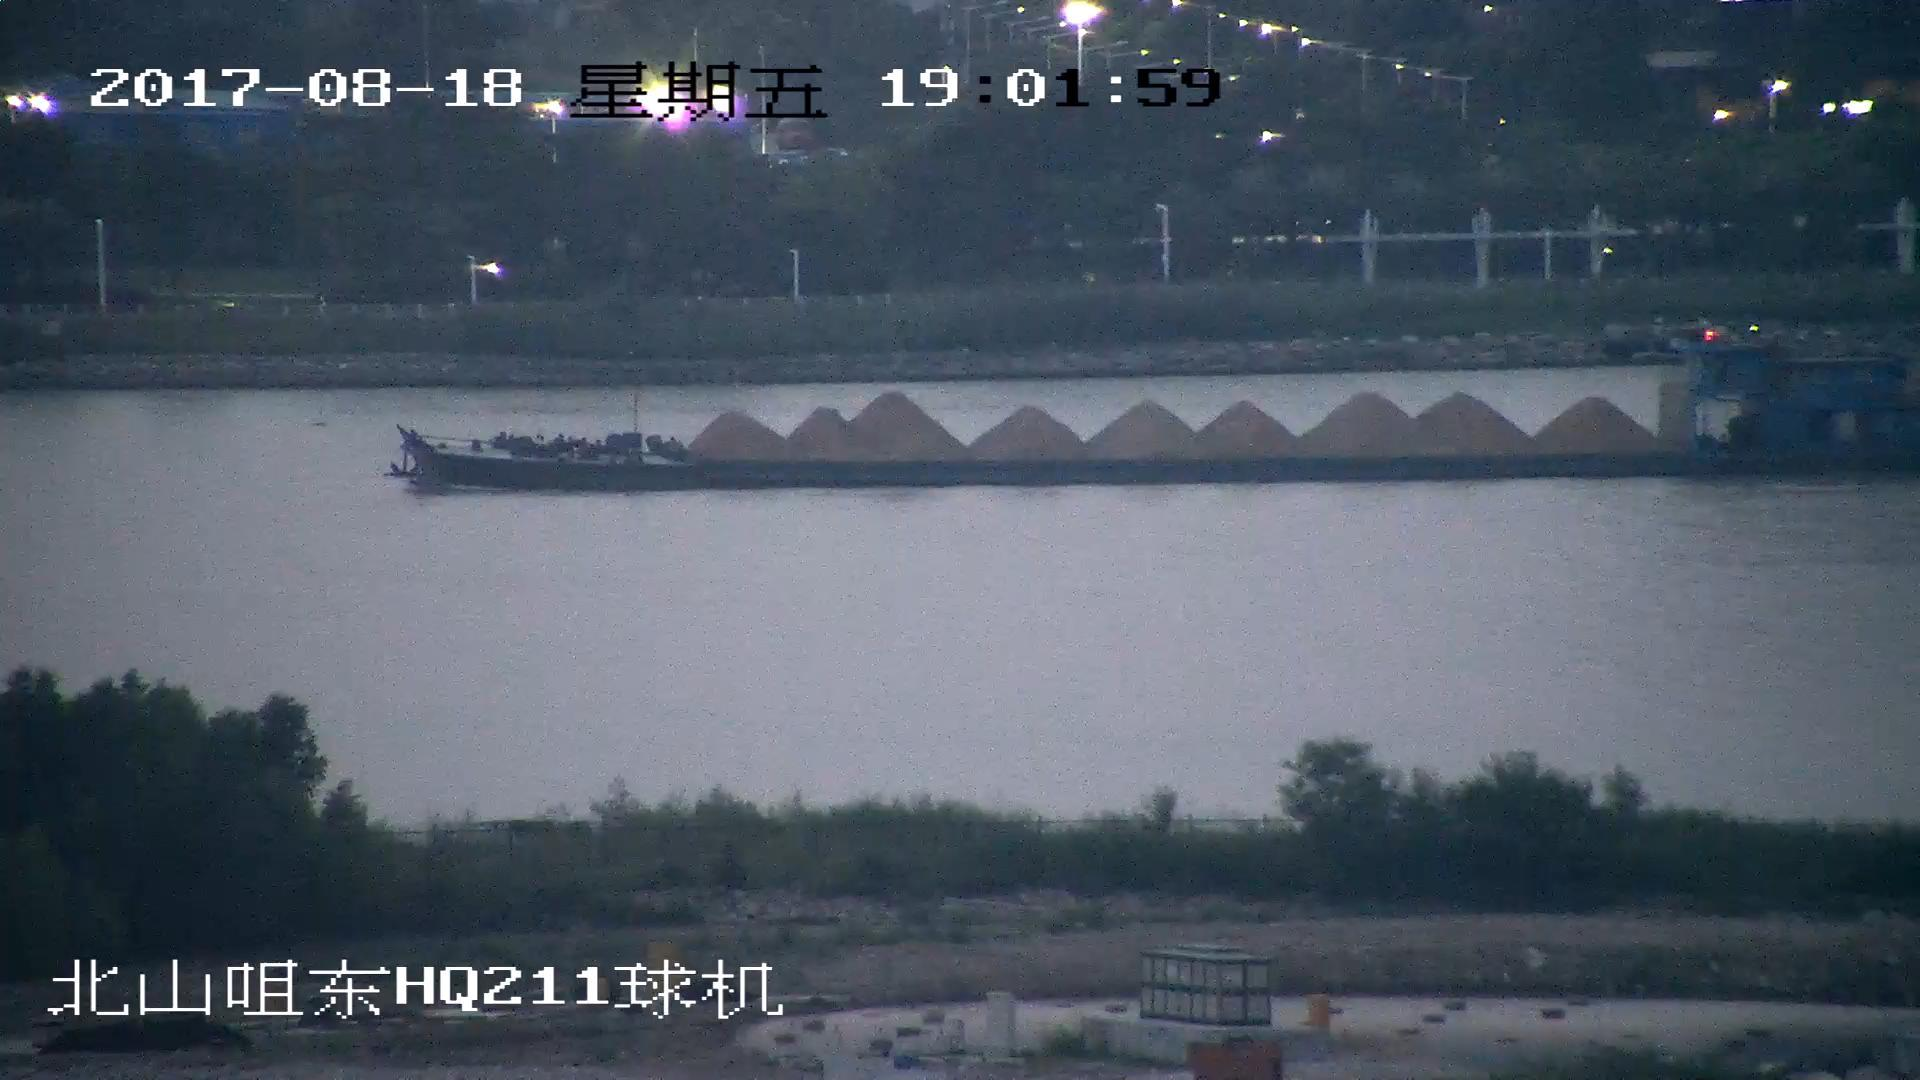Ship: (392, 328, 1920, 488)
